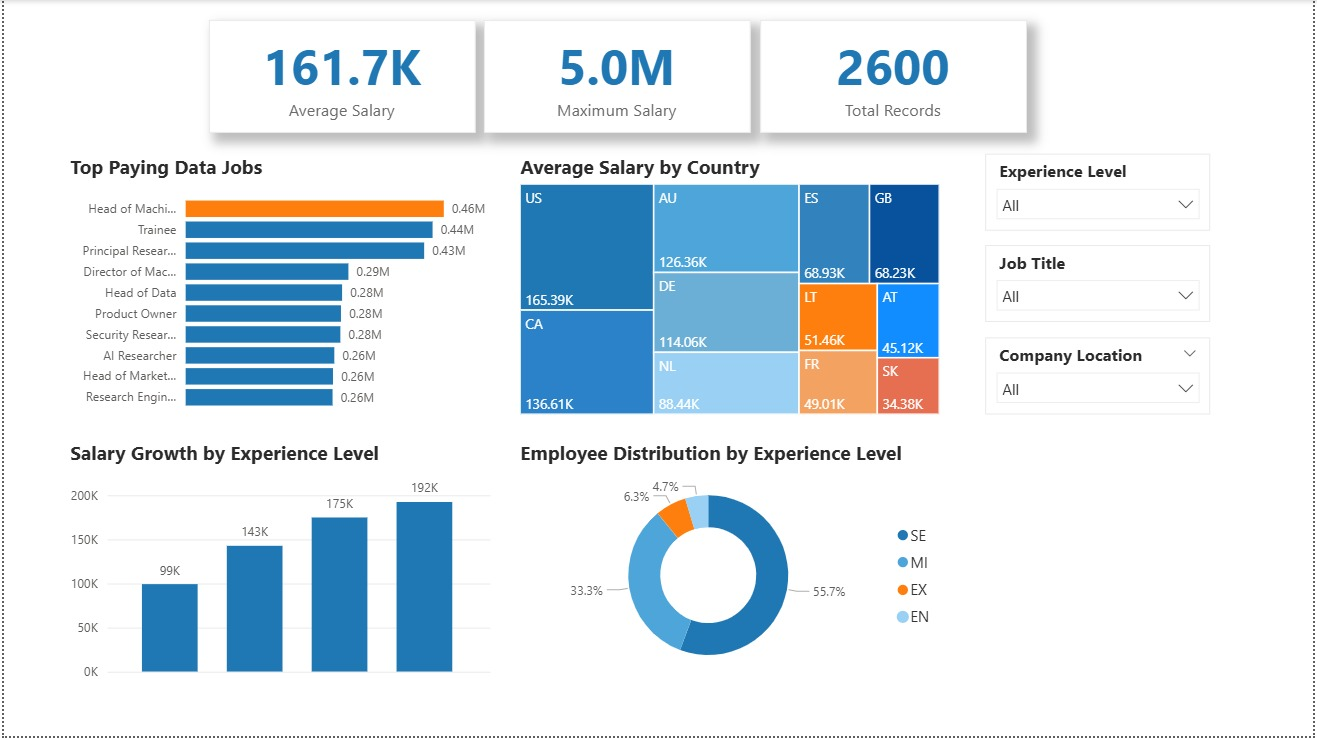

The page's visual inventory and layout, read from the dashboard file:
{"tool":"powerbi","page":{"name":"Page 1","canvas":[1280,720],"ordinal":0},"visuals":[{"type":"columnChart","title":"Salary Growth by Experience Level","fields":{"Category":["staging_db dim_experience.experience_level"],"Y":["Avg(staging_db fact_salaries.salary)"]},"box":[60,430,420.7,240.9],"z":0},{"type":"clusteredBarChart","title":"Top Paying Data Jobs","fields":{"Y":["Avg(staging_db fact_salaries.salary)"],"Category":["staging_db dim_job_title.job_title"]},"box":[60,150,420.7,260],"z":1000},{"type":"donutChart","title":"Employee Distribution by Experience Level","fields":{"Category":["staging_db dim_experience.experience_level"],"Y":["CountNonNull(staging_db fact_salaries.salary)"]},"box":[500,430,420,240],"z":2000},{"type":"treemap","title":"Average Salary by Country","fields":{"Group":["staging_db dim_company_location.company_location"],"Values":["Avg(staging_db fact_salaries.salary)"]},"box":[500,150,420,260],"z":3000},{"type":"card","fields":{"Values":["Avg(staging_db fact_salaries.salary)"]},"box":[200,20,260.5,110.1],"z":4000},{"type":"card","fields":{"Values":["Max(staging_db fact_salaries.salary)"]},"box":[470,20,260.5,110.1],"z":5000},{"type":"card","fields":{"Values":["Count(staging_db fact_salaries.salary)"]},"box":[740,20,260.5,110.1],"z":6000},{"type":"slicer","fields":{"Values":["staging_db dim_experience.experience_level"]},"box":[960,150,220,75],"z":7000},{"type":"slicer","fields":{"Values":["staging_db dim_job_title.job_title"]},"box":[960,240,220,75],"z":8000},{"type":"slicer","fields":{"Values":["staging_db dim_company_location.company_location"]},"box":[960,330,220.1,75],"z":9000}]}

Visuals, with their boxes in screenshot pixels (x1, y1, x2, y2), scaled from the page's 1280x720 canvas onto the 1317x740 screenshot:
"Salary Growth by Experience Level" columnChart: left=62, top=442, right=495, bottom=690
"Top Paying Data Jobs" clusteredBarChart: left=62, top=154, right=495, bottom=421
"Employee Distribution by Experience Level" donutChart: left=514, top=442, right=947, bottom=689
"Average Salary by Country" treemap: left=514, top=154, right=947, bottom=421
card - Avg(staging_db fact_salaries.salary): left=206, top=21, right=474, bottom=134
card - Max(staging_db fact_salaries.salary): left=484, top=21, right=752, bottom=134
card - Count(staging_db fact_salaries.salary): left=761, top=21, right=1029, bottom=134
slicer - staging_db dim_experience.experience_level: left=988, top=154, right=1214, bottom=231
slicer - staging_db dim_job_title.job_title: left=988, top=247, right=1214, bottom=324
slicer - staging_db dim_company_location.company_location: left=988, top=339, right=1214, bottom=416
